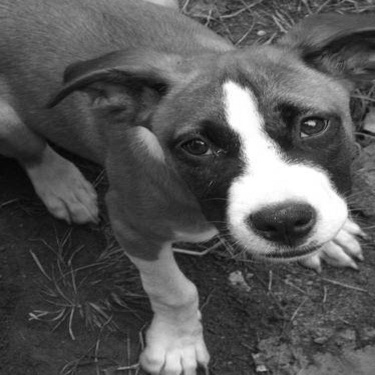dog: (7, 1, 372, 373)
